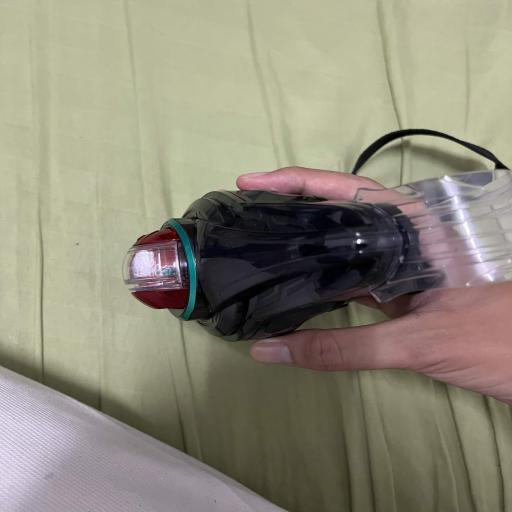zeztzdriver: (123, 130, 512, 341)
